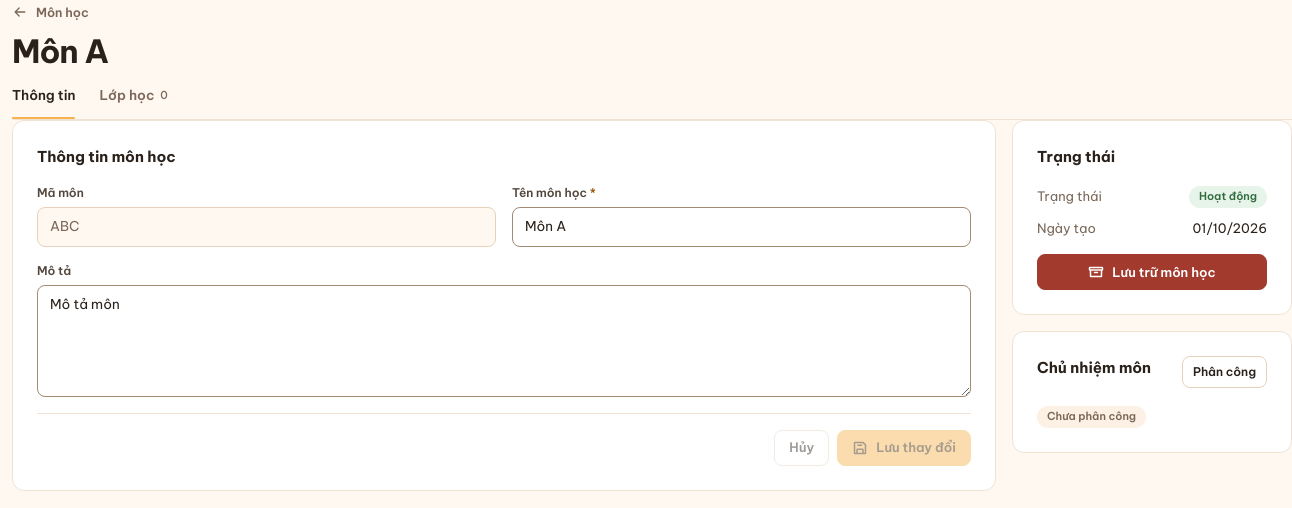
it: Detail mutations dùng chung version và làm mới snapshot › Hủy đưa form về giá trị đang lưu, không PATCH
expect the text box showing "Mô tả môn" is shown: met, box [37, 285, 971, 397]
Replace the text in the field with test id "subject-edit-name" with "Bản nháp": (742, 227) [525, 216, 958, 238]
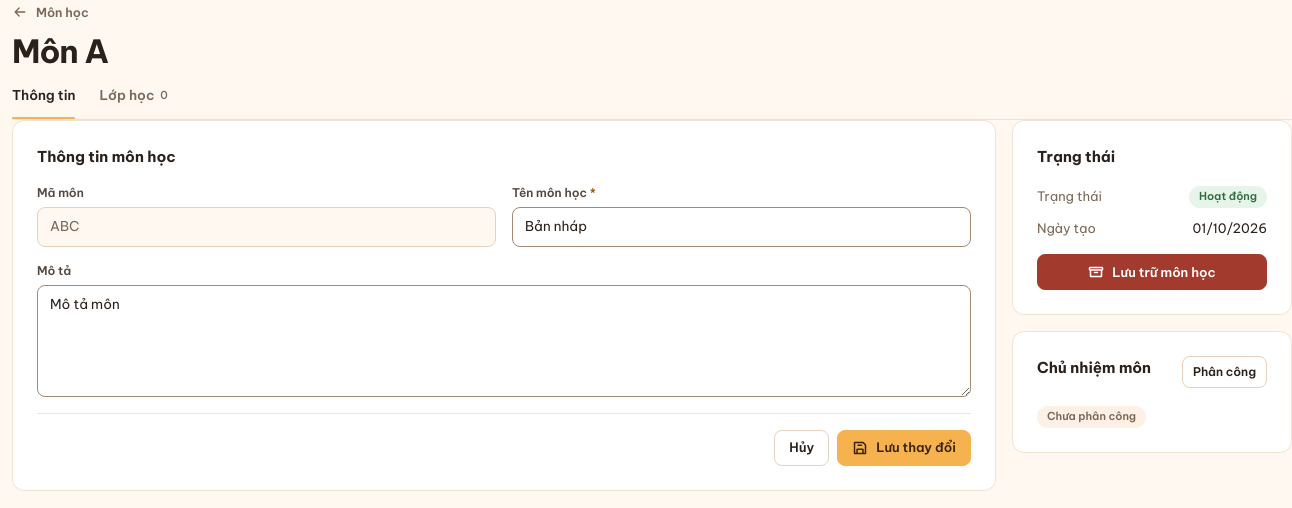
Click the button with test id "subject-edit-cancel": click(802, 448) [774, 430, 829, 466]
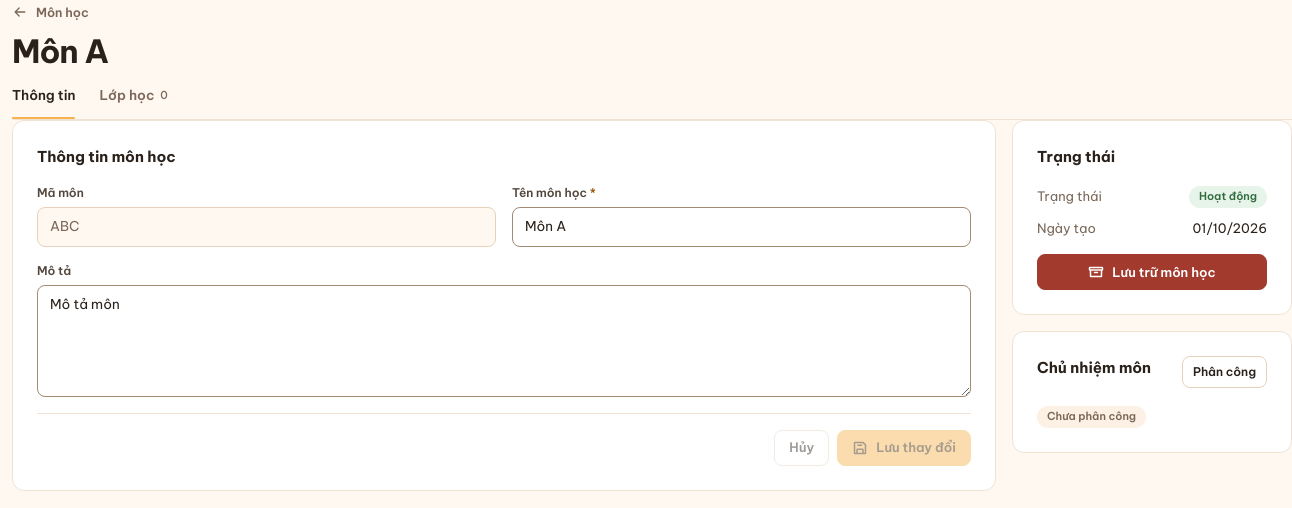
expect the field showing "Bản nháp" is not shown: met
expect the field with test id "subject-edit-name" holds "Môn A": met, box [525, 216, 958, 238]
